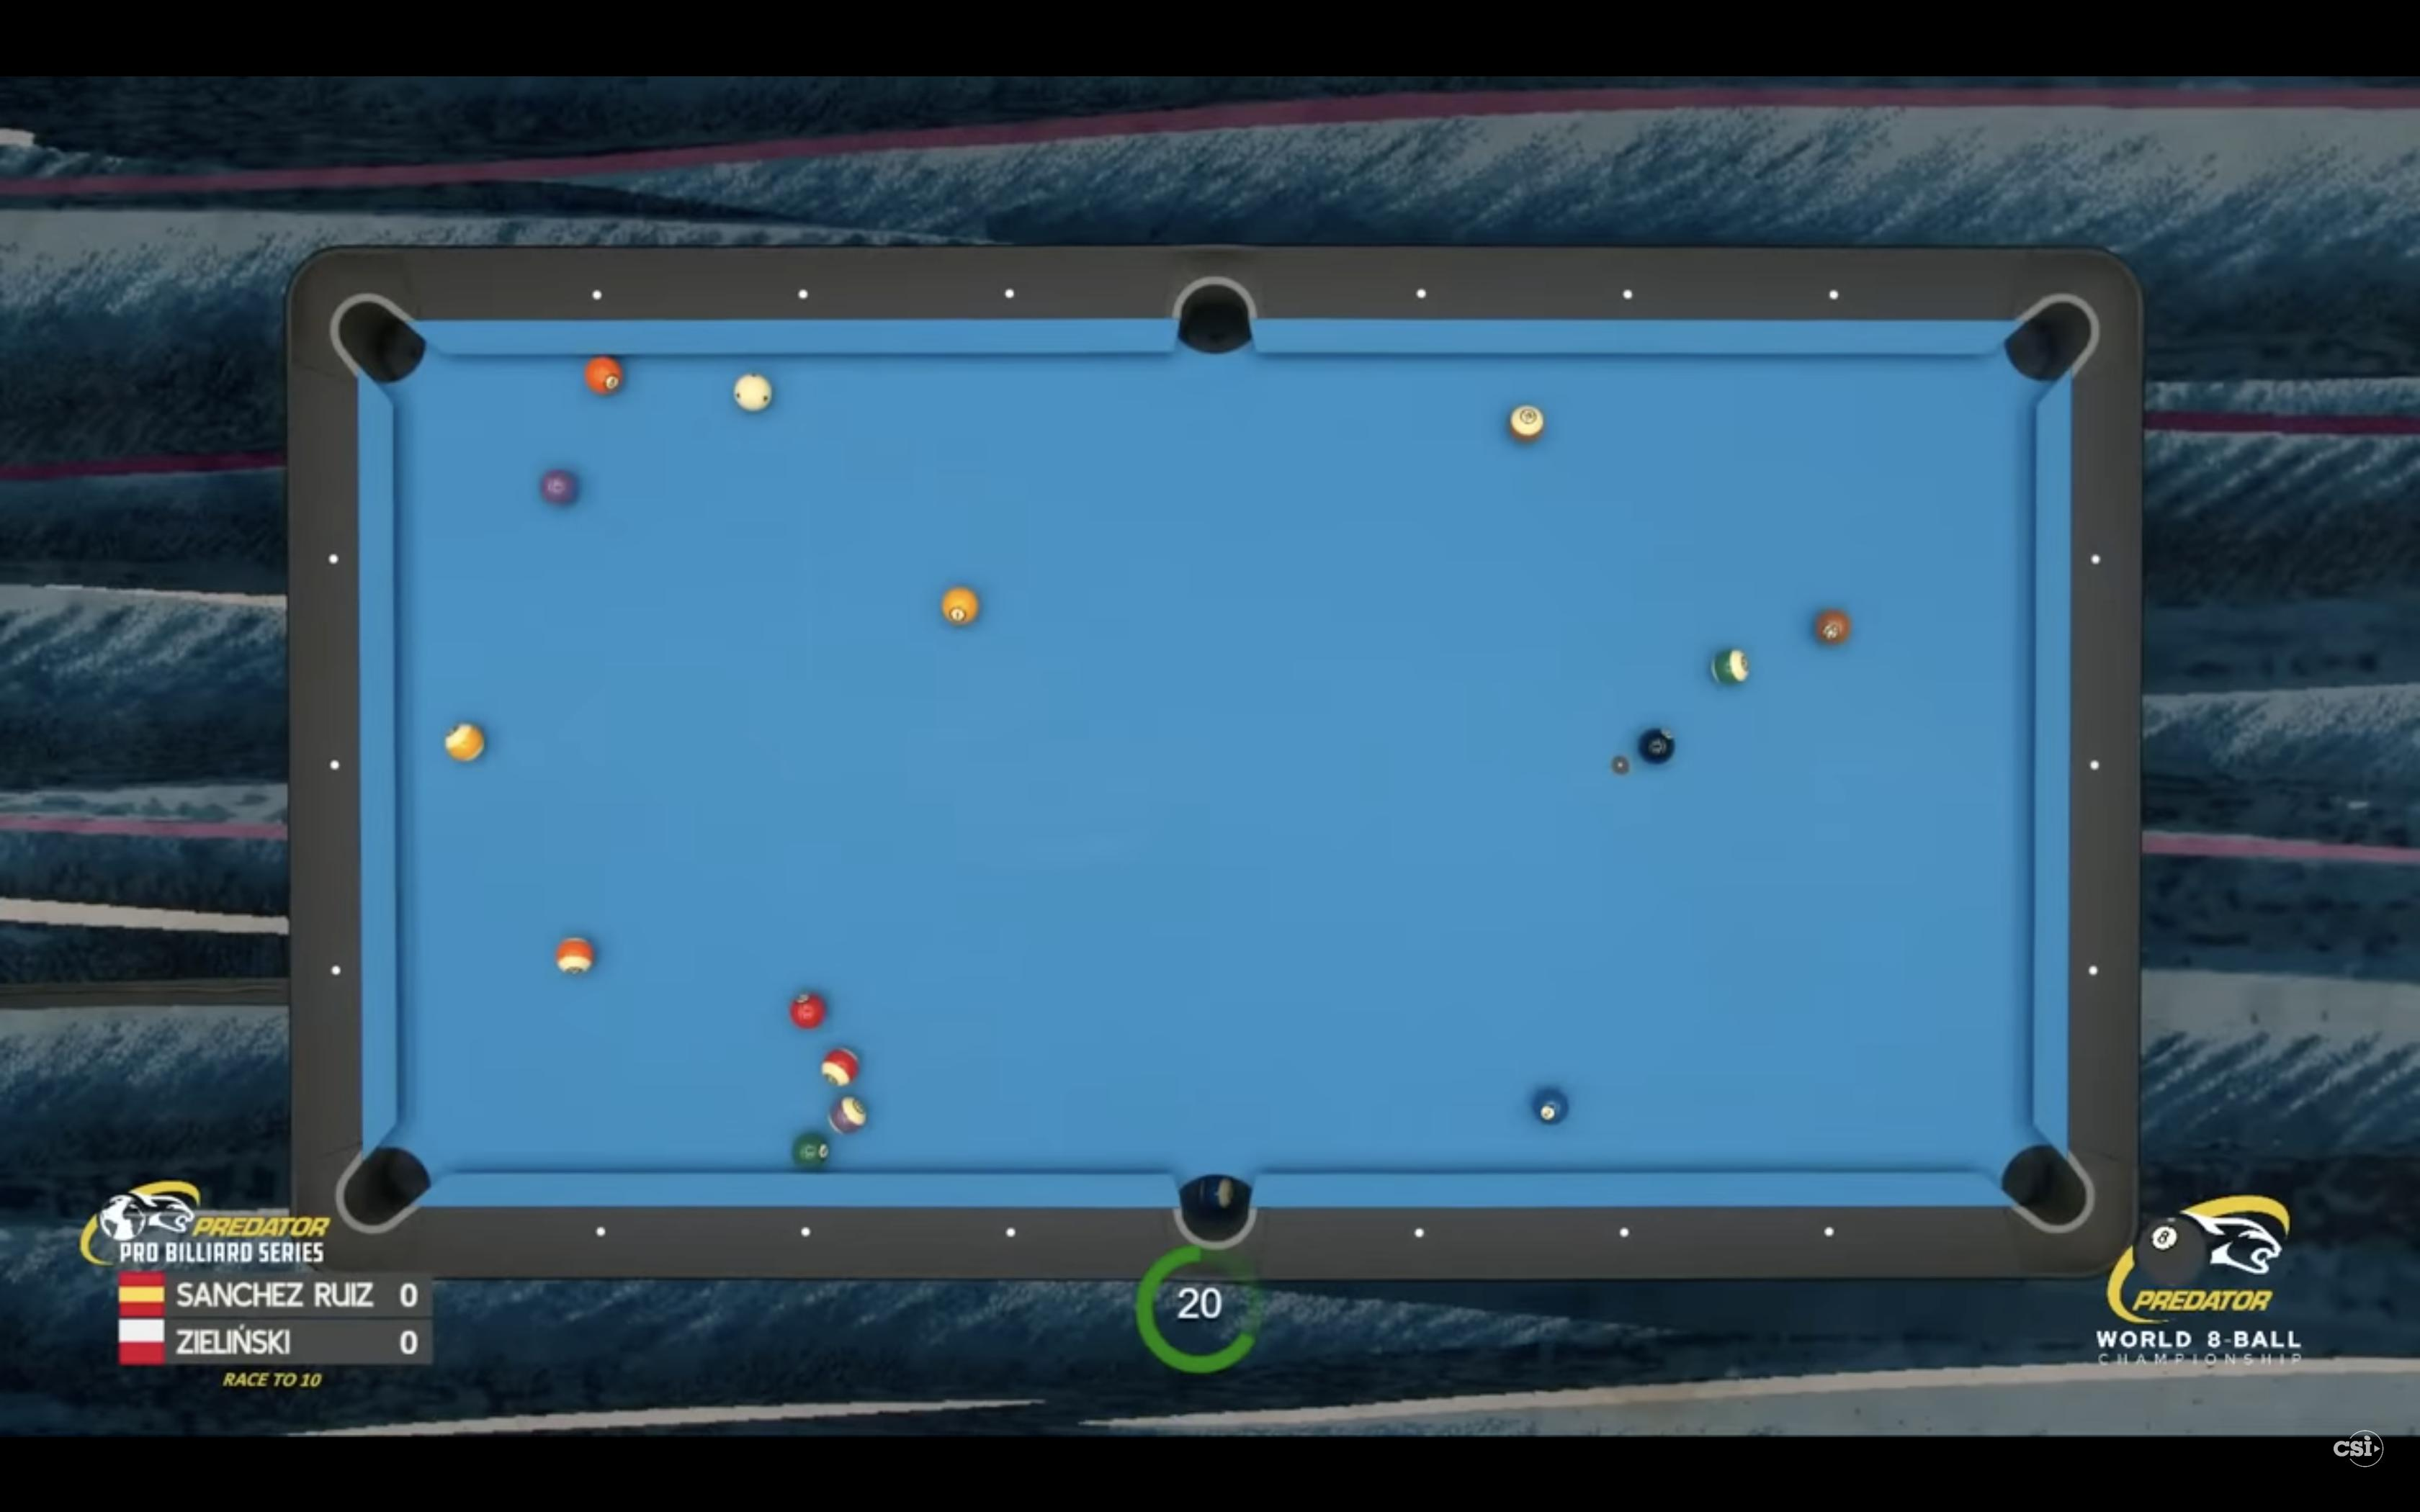Black: (1638, 725, 1676, 765)
Cue: (733, 371, 774, 415)
Dot: (2089, 552, 2103, 566), (1004, 1226, 1017, 1239), (2087, 963, 2099, 977), (329, 963, 341, 977), (1413, 1226, 1425, 1239), (1822, 1226, 1835, 1239), (2089, 759, 2101, 772), (1828, 289, 1840, 301), (1622, 287, 1634, 300), (1004, 287, 1016, 300), (596, 1226, 606, 1239), (1619, 1226, 1631, 1237), (1416, 287, 1427, 300), (798, 287, 808, 300), (592, 289, 603, 301), (328, 554, 340, 564), (329, 758, 340, 770), (801, 1226, 810, 1237)
Solid: (582, 354, 625, 397), (939, 584, 981, 625), (791, 1132, 829, 1171), (542, 470, 580, 507), (789, 991, 828, 1028), (1815, 608, 1852, 646), (1533, 1089, 1570, 1125)
Striped: (1709, 646, 1751, 688), (826, 1094, 869, 1134), (444, 721, 486, 759), (819, 1047, 861, 1085), (1505, 404, 1547, 442), (554, 935, 592, 975)
